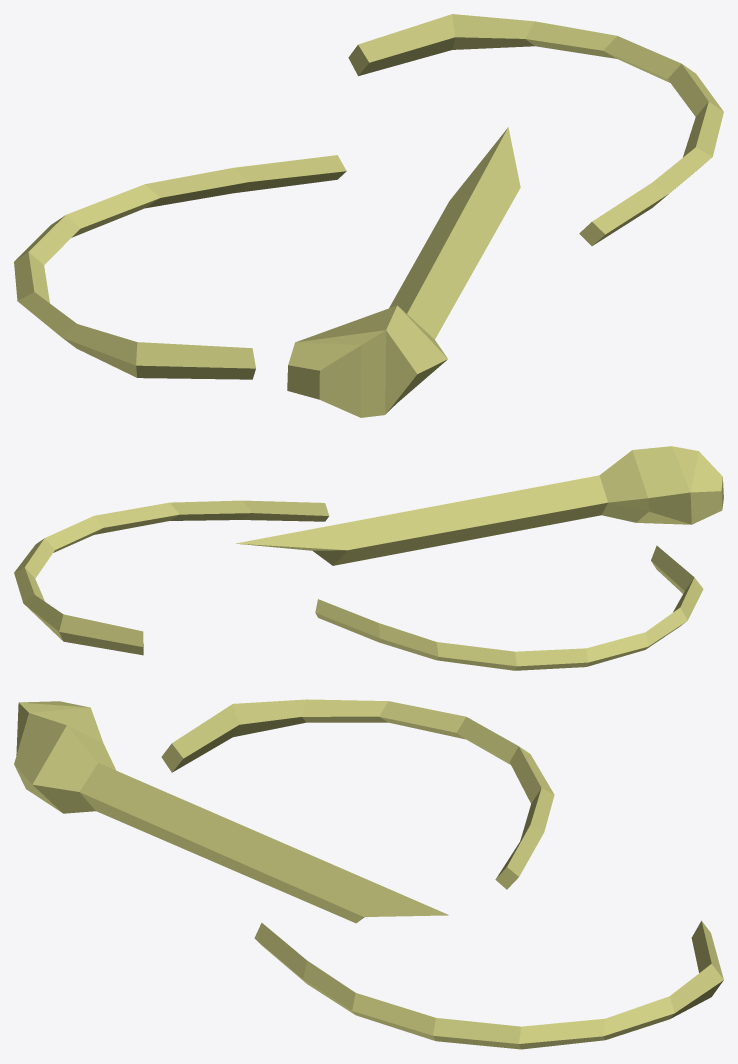
File: meshii.glb
3 views of the same model, one above another, from view 1: azimuth 30°, elevation 25°; view 2: azimuth 150°, elevation 25°; view 3: azimuth 270°, elevation 25° (orthographic). The views are drawn at different scales.
Visible parts, largest first — view 1: bones; view 2: bones; view 3: bones.
Boxes of the visible parts, left/top/right/bottom form: bones: left=14, top=14, right=723, bottom=417; bones: left=14, top=446, right=723, bottom=670; bones: left=14, top=699, right=723, bottom=1049.
Bounding box in the file's own units: 0.4748 × 0.0588 × 0.4207.
Materials: 1 (1 with a texture image).
